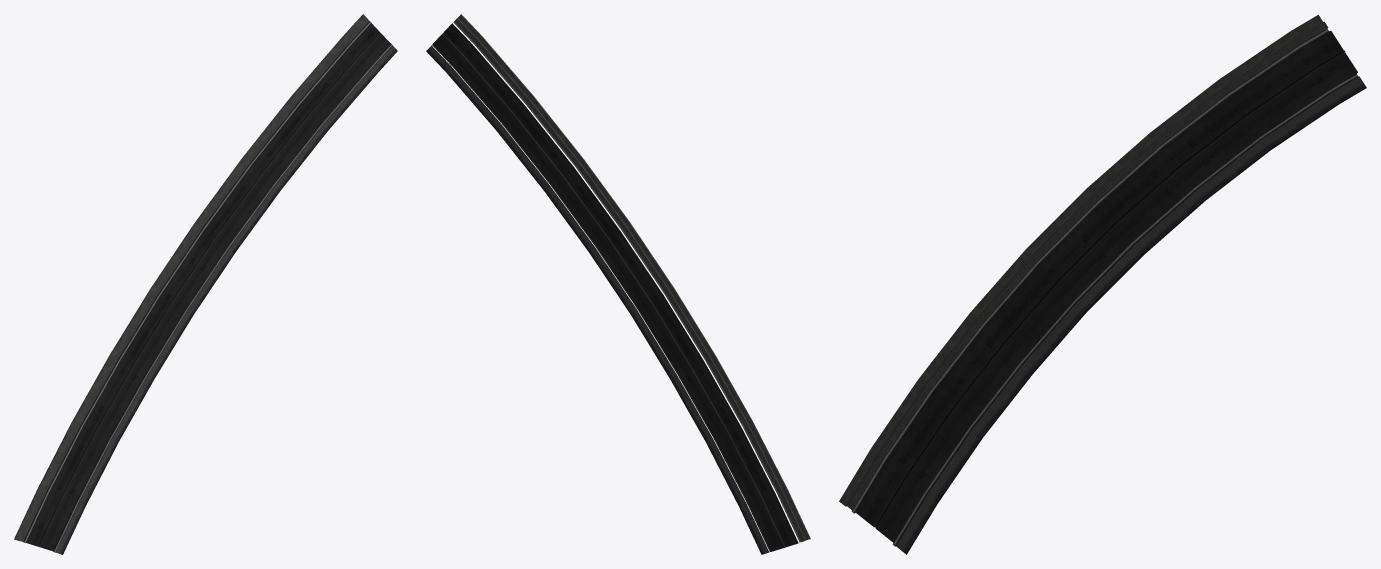
Rendered from p6_express_train_track_a01_LOD0.obj.
3 views of the same model, side by side, from view 1: azimuth 30°, elevation 25°; view 2: azimuth 150°, elevation 25°; view 3: azimuth 330°, elevation 25° (orthographic). The views are drawn at different scales.
Visible parts, largest first — view 1: metal_aircraft_catapult_strip, dub_concrete_wall_01_trim_clean, railroadtrack_top, railroadtrack_side; view 2: metal_aircraft_catapult_strip, dub_concrete_wall_01_trim_clean, railroadtrack_top; view 3: metal_aircraft_catapult_strip, dub_concrete_wall_01_trim_clean, railroadtrack_top, railroadtrack_side.
Boxes of the visible parts, x1=… form: metal_aircraft_catapult_strip: x1=20, y1=18, x2=397, y2=554; dub_concrete_wall_01_trim_clean: x1=14, y1=14, x2=366, y2=541; railroadtrack_top: x1=24, y1=21, x2=392, y2=552; railroadtrack_side: x1=23, y1=21, x2=391, y2=551; metal_aircraft_catapult_strip: x1=426, y1=18, x2=804, y2=554; dub_concrete_wall_01_trim_clean: x1=457, y1=14, x2=810, y2=540; railroadtrack_top: x1=432, y1=21, x2=800, y2=551; metal_aircraft_catapult_strip: x1=847, y1=21, x2=1366, y2=554; dub_concrete_wall_01_trim_clean: x1=839, y1=14, x2=1323, y2=506; railroadtrack_top: x1=851, y1=28, x2=1358, y2=546; railroadtrack_side: x1=854, y1=30, x2=1356, y2=546.
Size of the model in its own units: 3034 by 3529 by 26.83.
